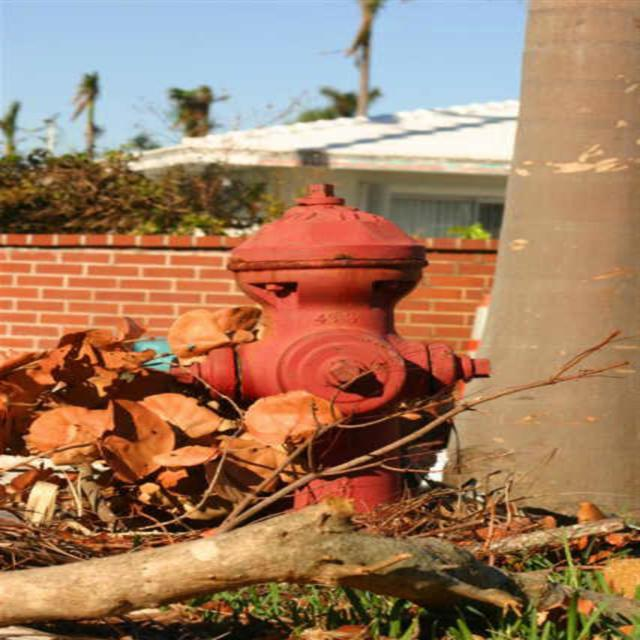fire_hydrant: (171, 183, 487, 532)
